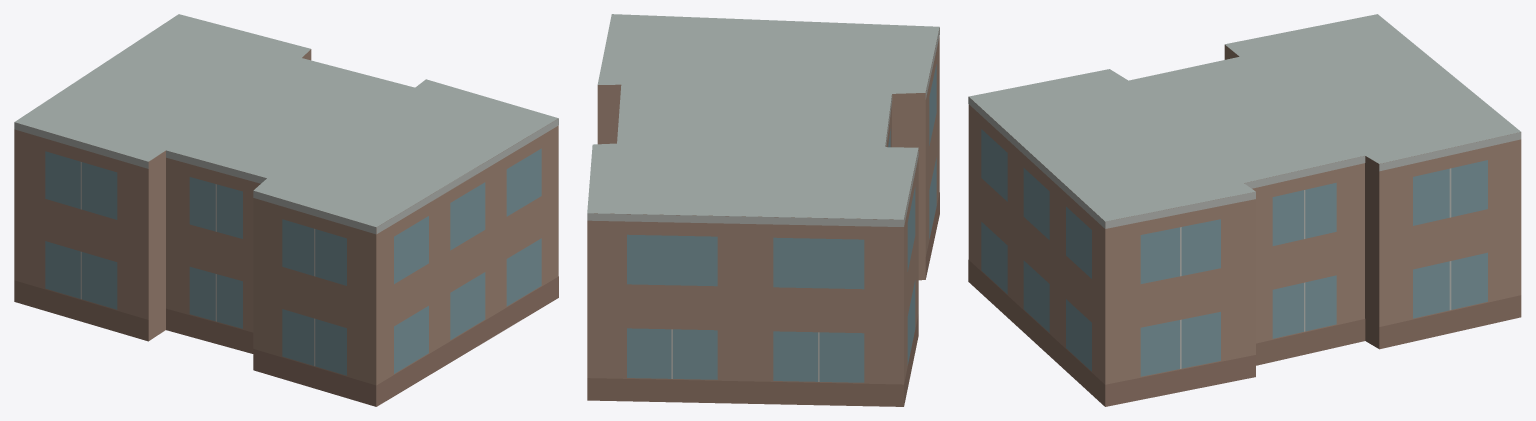
The model's file is survey-upis-32736434.glb.
3 renders of one model, left to right at view 1: azimuth 30°, elevation 25°; view 2: azimuth 150°, elevation 25°; view 3: azimuth 270°, elevation 25°, orthographic. The views are drawn at different scales.
Parts seen in each view (by area): view 1: survey-upis-32736434.tmp; view 2: survey-upis-32736434.tmp; view 3: survey-upis-32736434.tmp.
Part boxes in pixels (<box>): survey-upis-32736434.tmp: <box>14,14,558,406</box>; survey-upis-32736434.tmp: <box>587,14,939,406</box>; survey-upis-32736434.tmp: <box>968,14,1521,406</box>.
Bounding box in the file's own units: 14.67 × 6.1 × 16.5.
